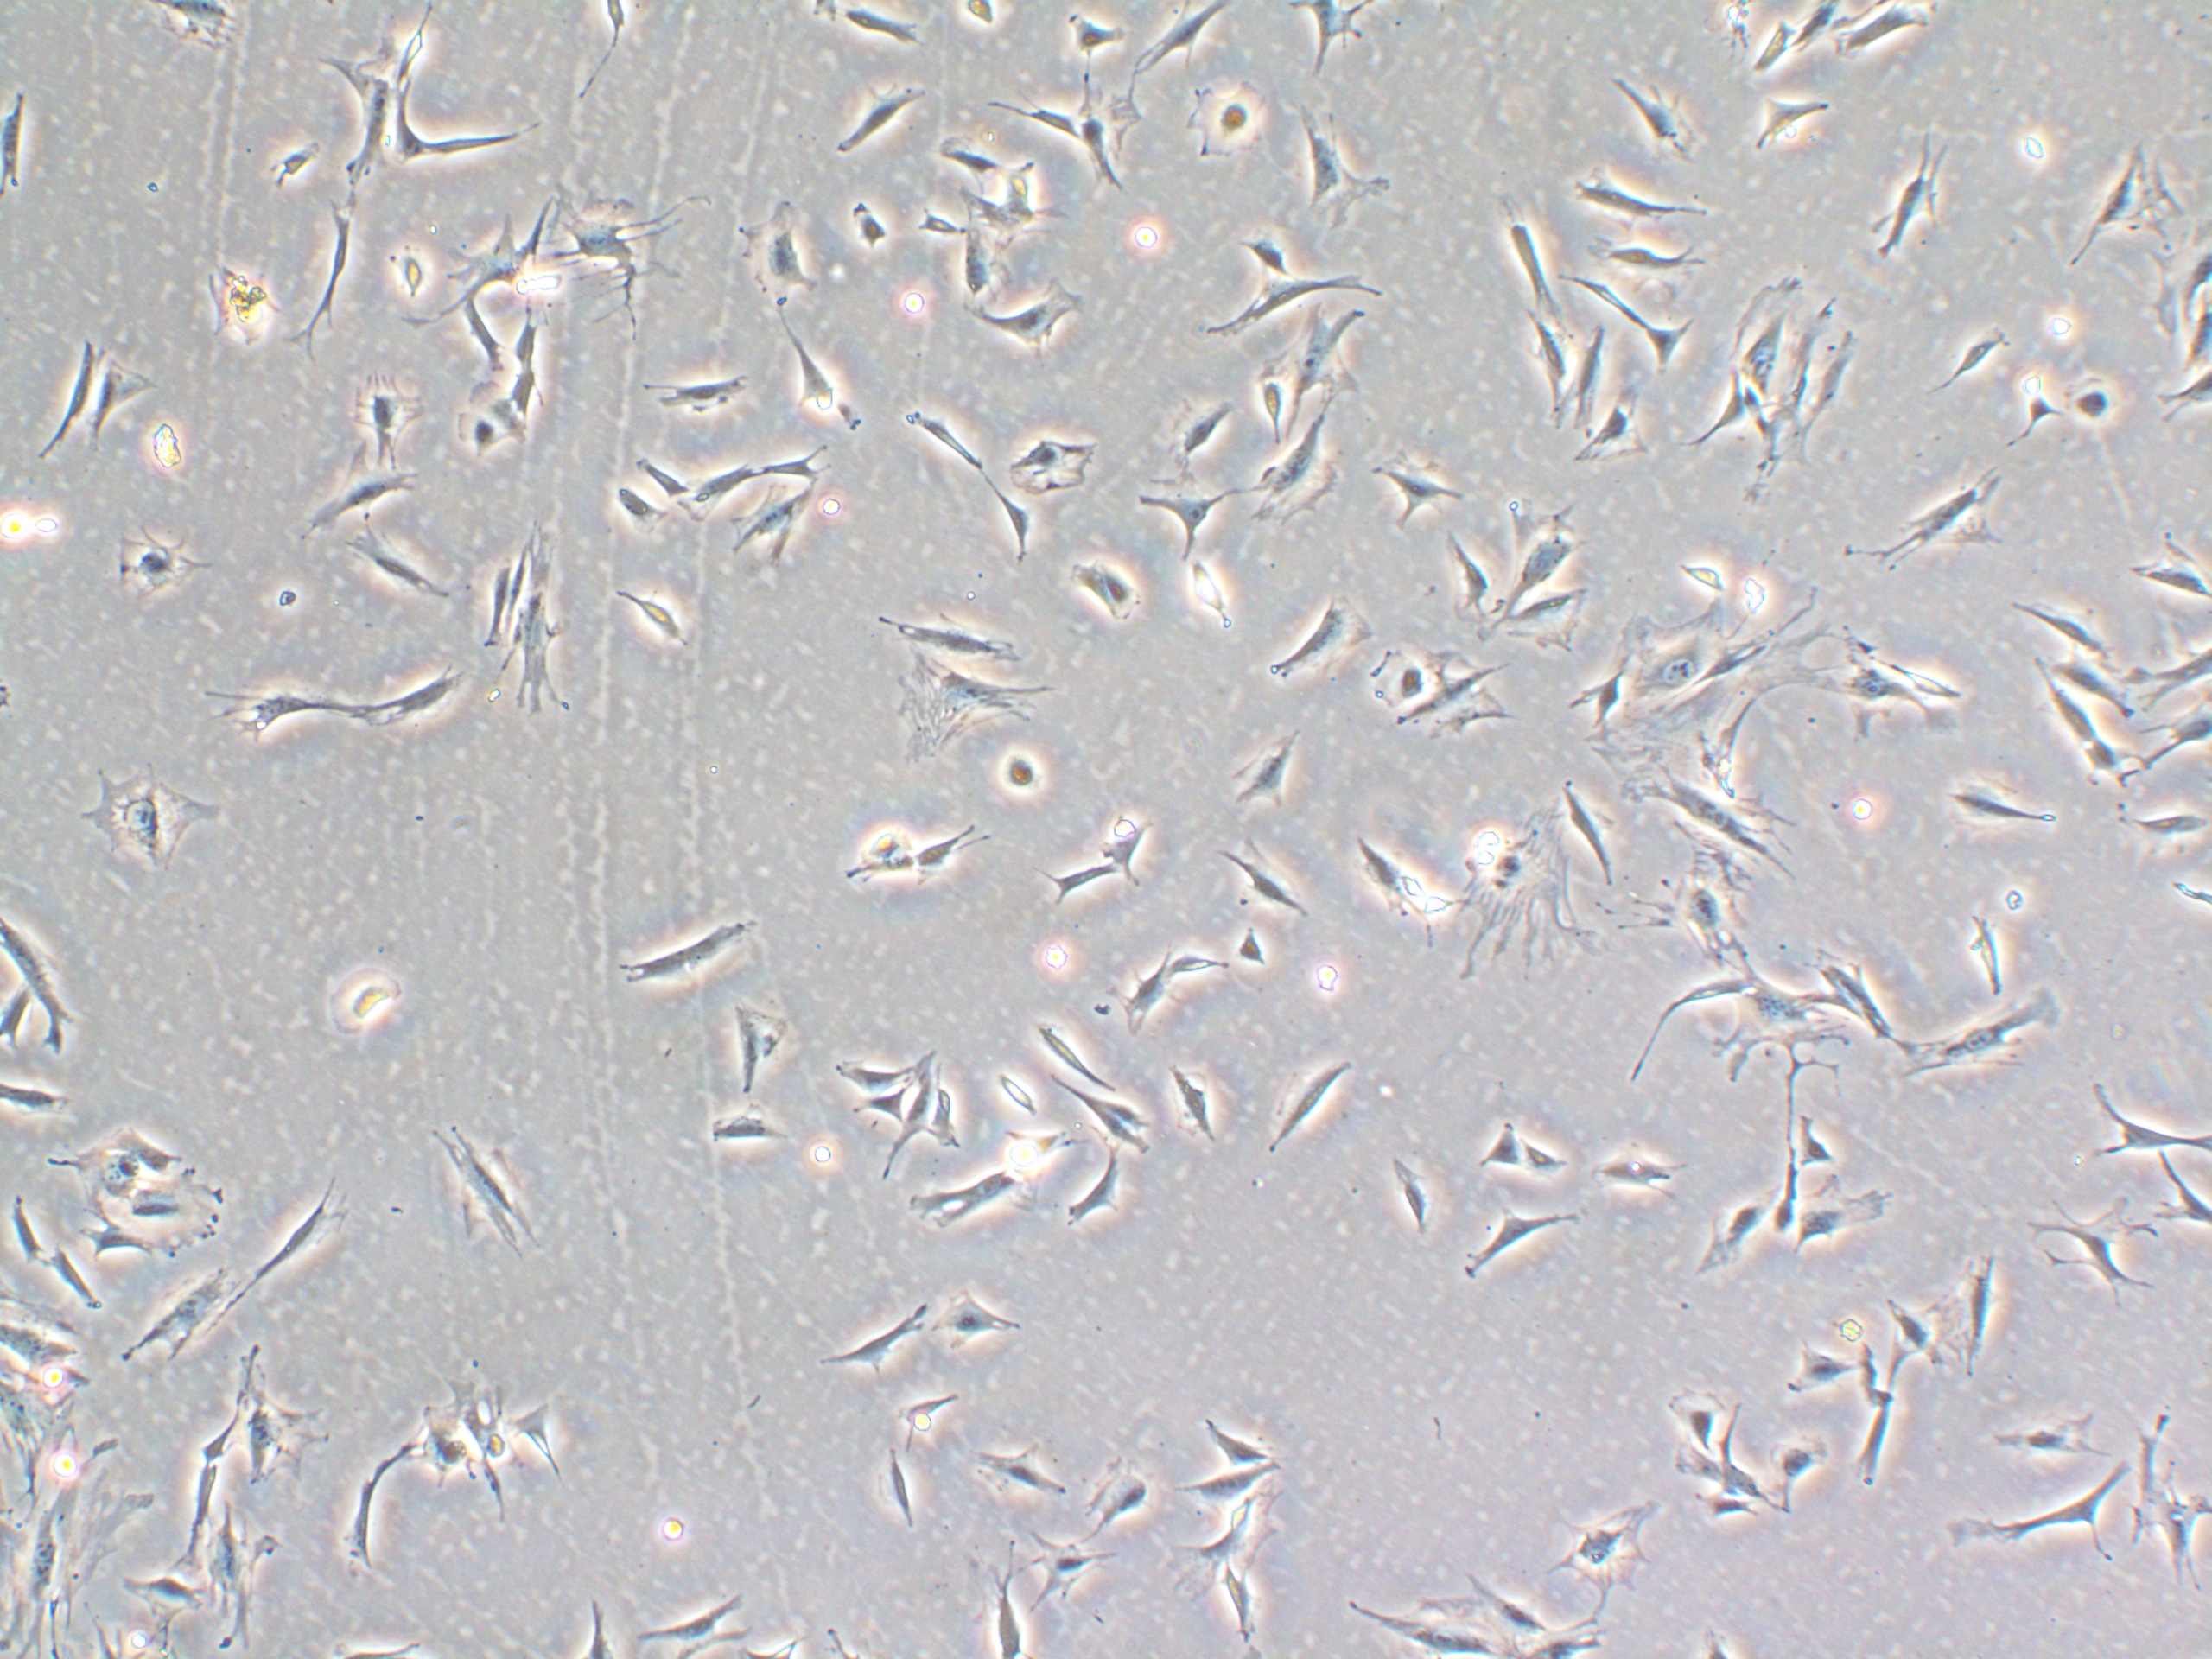Etc: (505, 1394, 590, 1506), (984, 1061, 1052, 1140), (260, 136, 327, 193)
polygonal: (420, 1107, 563, 1265), (1928, 1466, 2137, 1570), (1883, 978, 2066, 1087), (1857, 458, 2008, 577), (103, 1262, 237, 1394), (1252, 300, 1383, 436), (171, 666, 354, 760), (592, 906, 768, 1004), (1040, 75, 1157, 221), (1197, 261, 1392, 349), (519, 511, 594, 732), (233, 1176, 361, 1303), (0, 924, 110, 1066), (1289, 99, 1399, 240), (2031, 1192, 2155, 1316), (716, 476, 841, 594), (1252, 1051, 1369, 1173), (327, 33, 413, 197), (1247, 401, 1346, 538), (1493, 502, 1580, 655), (300, 434, 425, 540), (1681, 1178, 1792, 1297), (287, 197, 368, 361), (1493, 185, 1578, 336), (961, 274, 1092, 371), (1865, 127, 1954, 270), (1388, 645, 1521, 741), (1810, 659, 1961, 742), (1930, 1244, 2015, 1392), (1341, 823, 1439, 951), (2083, 1065, 2207, 1166), (1022, 999, 1136, 1108), (1332, 1584, 1498, 1659), (333, 1441, 418, 1586), (1263, 592, 1381, 695), (806, 1297, 928, 1392), (1054, 1072, 1162, 1180), (1134, 378, 1237, 491), (1447, 1202, 1583, 1288), (1568, 159, 1721, 234), (1486, 584, 1611, 674), (867, 598, 1026, 669), (334, 521, 455, 615), (820, 61, 941, 155), (354, 648, 475, 741), (2027, 634, 2142, 732), (1804, 943, 1902, 1056), (625, 1581, 772, 1656), (1367, 444, 1484, 537), (1963, 1403, 2125, 1469), (1587, 1138, 1696, 1232), (606, 575, 705, 676), (887, 392, 991, 488), (1211, 831, 1317, 925), (1120, 0, 1237, 85), (1606, 64, 1707, 162), (418, 110, 549, 185), (864, 1060, 941, 1187), (1122, 483, 1242, 563), (1789, 1173, 1895, 1263), (888, 1168, 1014, 1244), (773, 321, 855, 434), (28, 333, 96, 469), (1933, 772, 2073, 838), (1454, 1558, 1554, 1650), (1157, 1056, 1235, 1171), (965, 1432, 1080, 1511), (1545, 321, 1620, 441), (1585, 235, 1714, 305), (1663, 1441, 1785, 1514), (341, 368, 432, 465), (1224, 716, 1312, 817), (1561, 781, 1627, 908), (1157, 1453, 1277, 1523), (1054, 545, 1148, 634), (925, 1284, 1036, 1359), (2006, 594, 2128, 662), (1876, 1290, 1952, 1394), (1838, 1368, 1897, 1502), (855, 1448, 928, 1556), (1439, 523, 1507, 638), (1087, 798, 1160, 904), (1571, 387, 1665, 469), (1919, 315, 2015, 396), (725, 997, 798, 1101), (1001, 436, 1120, 500), (1083, 1448, 1163, 1540), (1017, 1527, 1111, 1605), (693, 1094, 801, 1162), (1179, 1410, 1289, 1476), (40, 1236, 120, 1326), (2127, 525, 2212, 608), (103, 326, 157, 455), (1742, 91, 1832, 166), (632, 364, 756, 418), (1059, 1148, 1127, 1246), (1770, 1424, 1839, 1518), (678, 444, 749, 533), (1559, 270, 1655, 335), (1379, 1152, 1446, 1244), (1111, 948, 1179, 1035), (1658, 1373, 1726, 1459), (1031, 852, 1123, 911), (474, 532, 514, 660), (596, 476, 669, 545), (5, 1190, 61, 1281), (1524, 310, 1564, 434), (1773, 1342, 1857, 1401), (752, 436, 836, 495), (824, 1049, 921, 1100), (1211, 1563, 1270, 1642), (1644, 314, 1703, 389), (1226, 225, 1298, 282), (1764, 1154, 1810, 1244), (989, 483, 1035, 570), (1791, 1115, 1853, 1175), (841, 1089, 911, 1140), (2005, 396, 2074, 444), (1477, 1117, 1524, 1185), (1235, 929, 1284, 988), (1524, 1133, 1568, 1195)
small-round: (310, 948, 430, 1068), (1174, 61, 1296, 179), (829, 188, 900, 265), (1179, 556, 1240, 641), (2064, 366, 2128, 443), (845, 816, 916, 882), (984, 742, 1055, 805), (380, 230, 439, 303), (899, 195, 958, 237)
spread: (1571, 598, 1749, 817), (1714, 270, 1865, 500), (0, 1457, 164, 1652), (42, 1117, 242, 1267), (1449, 796, 1592, 985), (846, 652, 1069, 772), (54, 751, 230, 897), (1703, 946, 1881, 1086), (199, 1333, 327, 1506), (169, 1516, 275, 1640)
